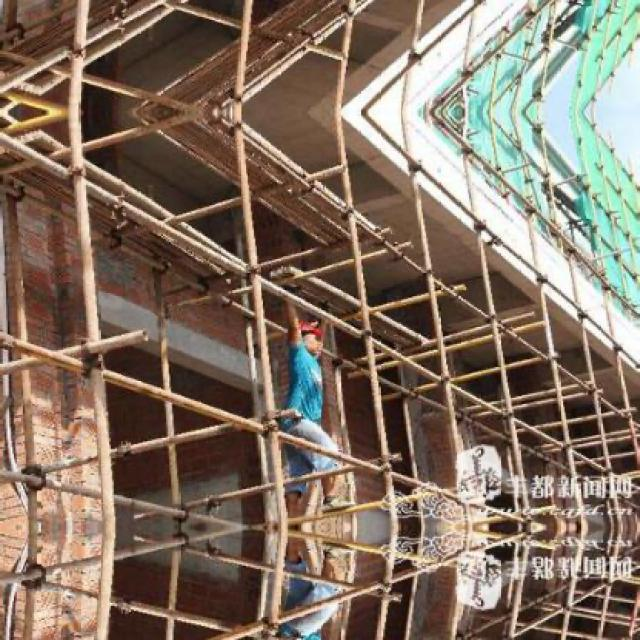helmet: (289, 318, 323, 358)
